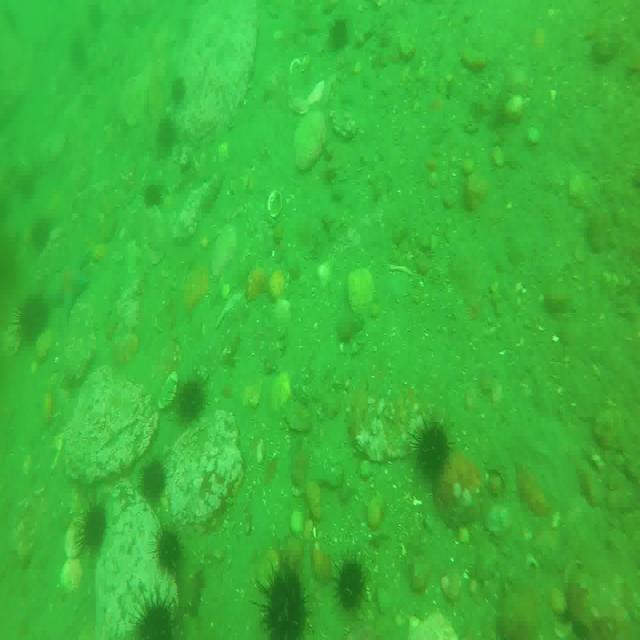echinus: (252, 553, 310, 640), (415, 418, 450, 478), (337, 552, 369, 609), (134, 595, 174, 640), (15, 298, 52, 346), (152, 524, 184, 577), (141, 462, 174, 510), (79, 502, 110, 549), (179, 378, 208, 426), (328, 16, 351, 52), (144, 174, 167, 206), (156, 120, 177, 149), (32, 214, 53, 241), (173, 79, 190, 102)
scallop: (486, 502, 514, 540), (266, 184, 287, 221)
starfish: (55, 254, 93, 322)
